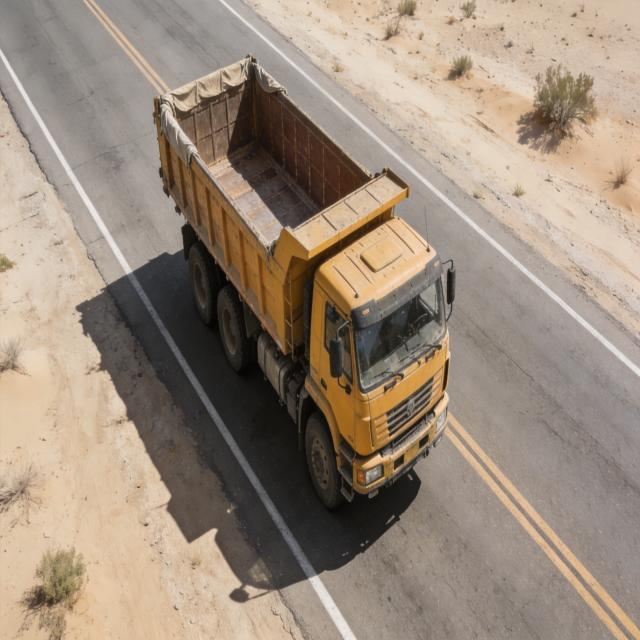Box: (154, 56, 406, 260)
Truck: (143, 45, 477, 497)
